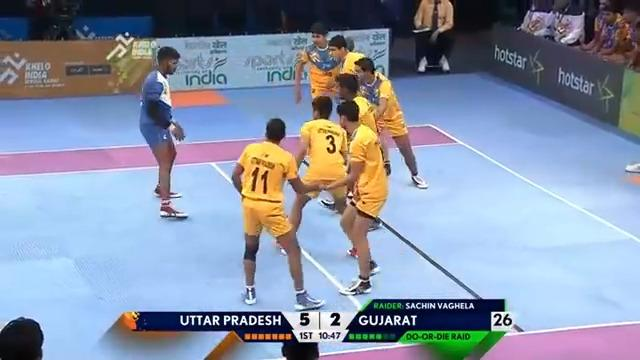Player: (230, 117, 326, 311), (276, 94, 379, 272), (322, 100, 388, 295), (352, 56, 428, 188), (293, 22, 341, 110)
Raider: (136, 46, 187, 220)
referee: (412, 0, 455, 73), (30, 0, 81, 40)
